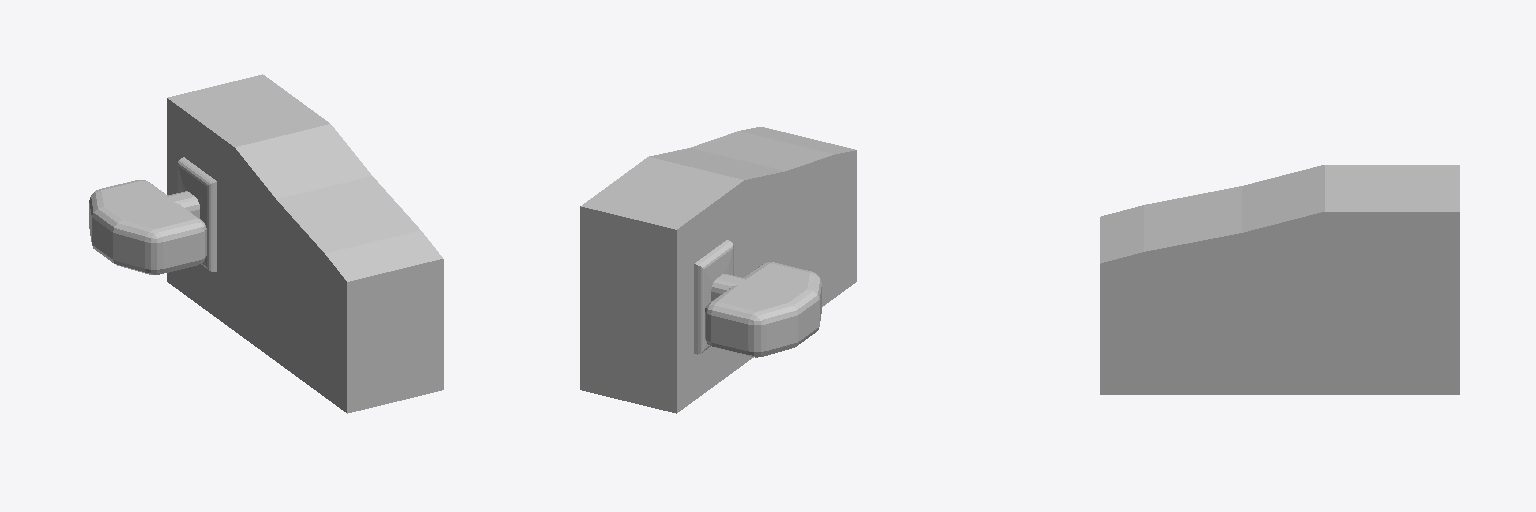
Rendered from console_start.obj.
The picture shows the model from 3 angles: view 1: azimuth 30°, elevation 25°; view 2: azimuth 150°, elevation 25°; view 3: azimuth 270°, elevation 25°; orthographic projection.
Visible parts, largest first — view 1: ConsoleStart; view 2: ConsoleStart; view 3: ConsoleStart.
Part boxes in pixels (x1,y1,x2,y2): ConsoleStart: (89, 74, 443, 413); ConsoleStart: (580, 127, 856, 413); ConsoleStart: (1100, 165, 1459, 394).
Bounding box in the file's own units: 0.6226 × 0.5623 × 1.